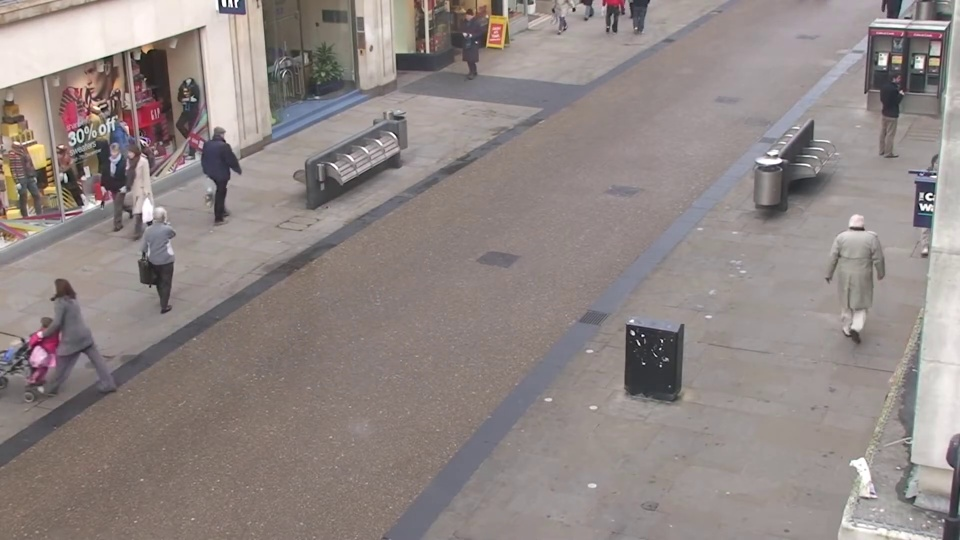pedestrian: (15, 271, 79, 406), (830, 203, 877, 323), (142, 200, 190, 316), (108, 145, 152, 246), (91, 140, 135, 240), (213, 120, 250, 215), (872, 67, 911, 154), (456, 10, 480, 76)
